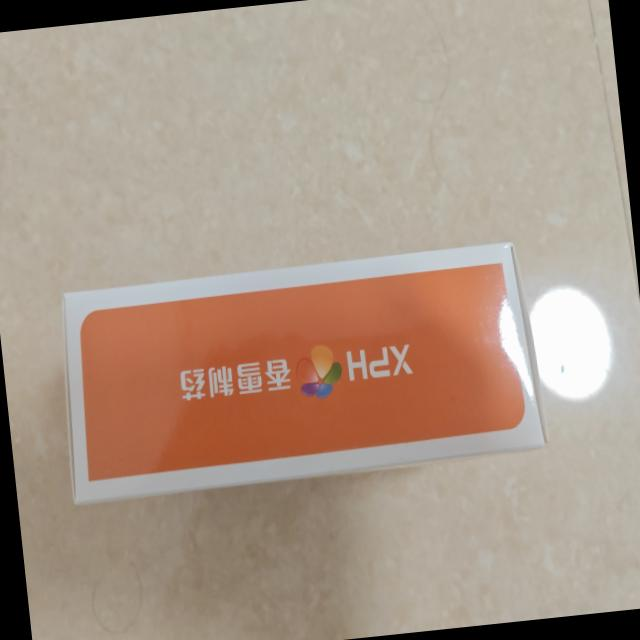box: (41, 232, 558, 518)
